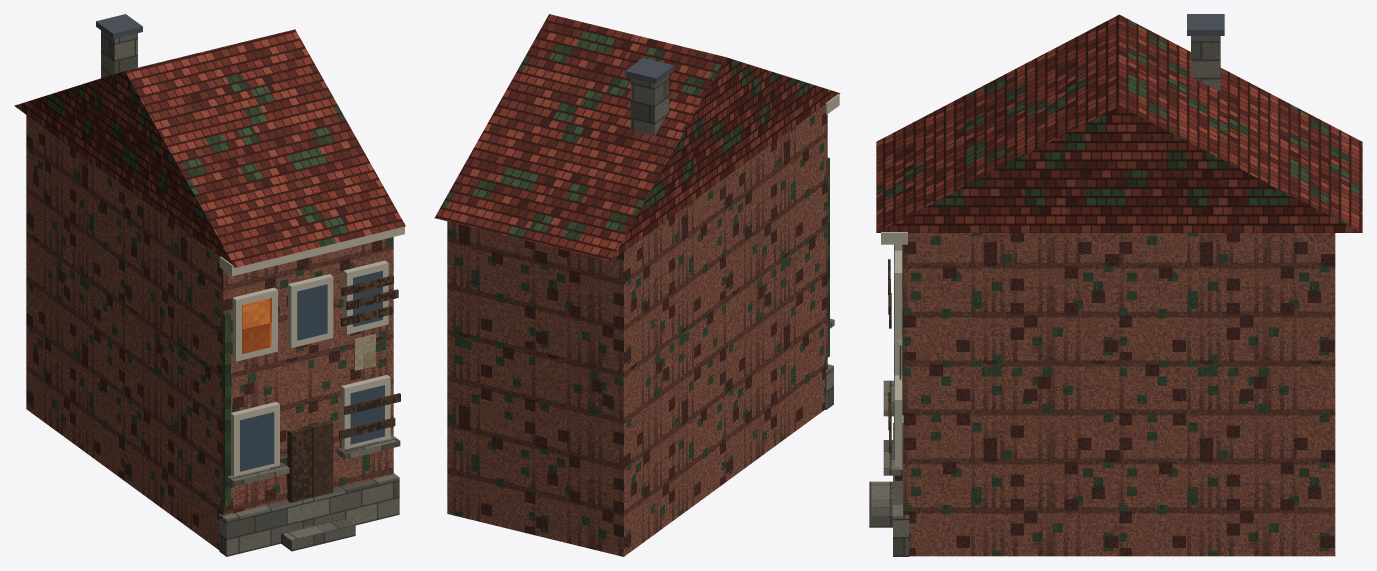
File: ENV_C_Facade_0.fbx
The picture shows the model from 3 angles, left to right: view 1: azimuth 30°, elevation 25°; view 2: azimuth 150°, elevation 25°; view 3: azimuth 270°, elevation 25°; orthographic projection. The views are drawn at different scales.
Visible parts, largest first — view 1: ENV_C_Facade_0; view 2: ENV_C_Facade_0; view 3: ENV_C_Facade_0.
Part boxes in pixels (<box>): ENV_C_Facade_0: <box>14,14,405,556</box>; ENV_C_Facade_0: <box>434,14,840,556</box>; ENV_C_Facade_0: <box>869,14,1362,556</box>.
Size of the model in its own units: 406 by 942 by 913.
11 materials, 8 textured.
